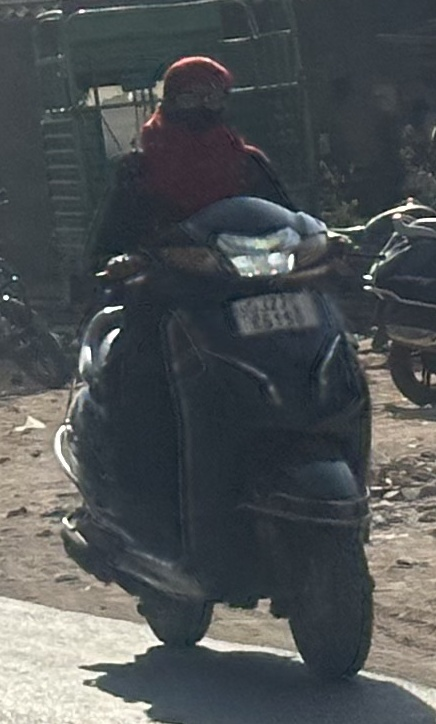BikeWithRider: (42, 47, 389, 689)
NoHelmet: (148, 48, 244, 137)
